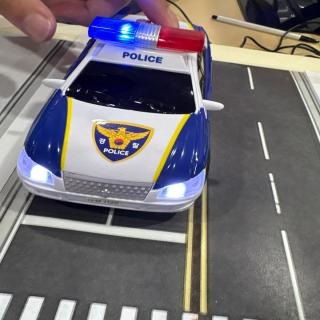Police_car: (17, 17, 224, 211)
